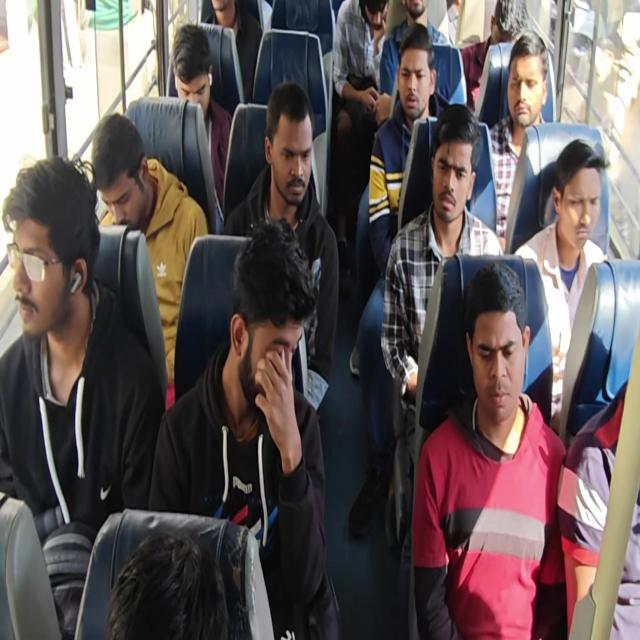person: (214, 230, 327, 413), (1, 156, 90, 334), (461, 282, 528, 422), (80, 130, 161, 239), (262, 96, 326, 203), (560, 142, 608, 256), (165, 42, 215, 122), (435, 138, 476, 220), (508, 43, 545, 119), (398, 49, 428, 114), (492, 3, 526, 48), (350, 0, 390, 38), (399, 0, 431, 26), (200, 0, 236, 22)
